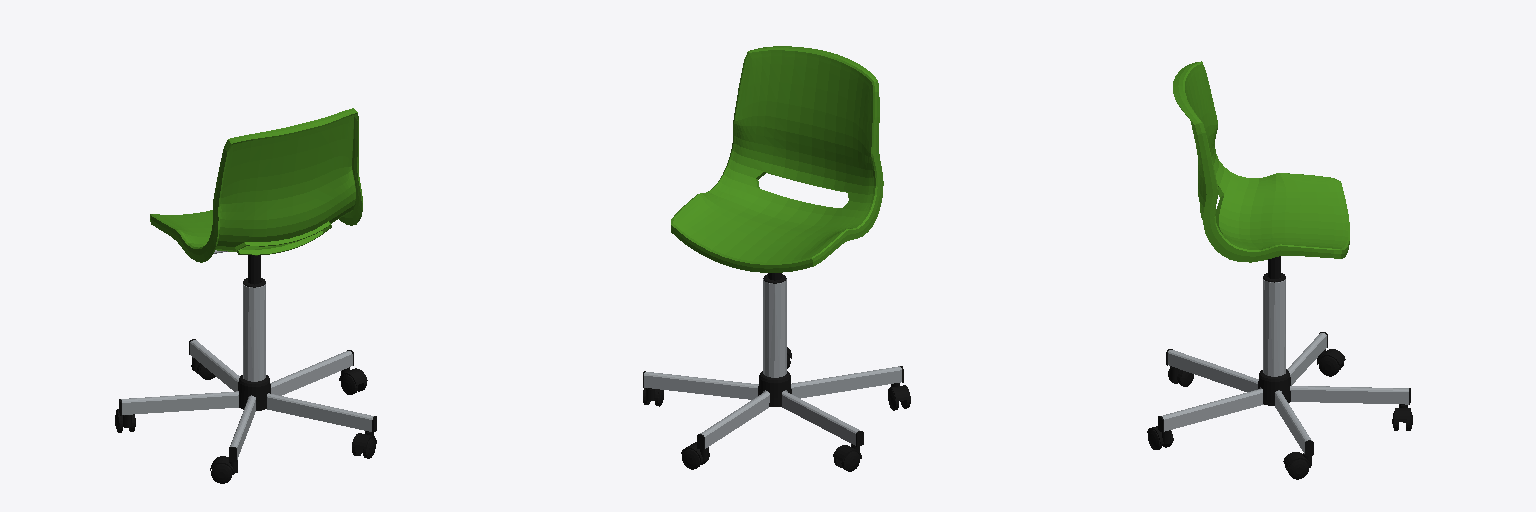
3 views of the same model, side by side, from view 1: azimuth 30°, elevation 25°; view 2: azimuth 150°, elevation 25°; view 3: azimuth 270°, elevation 25° (orthographic).
Visible parts, largest first — view 1: Mesh2 Group2 SNILLE_IKEA1 Model, Mesh8 Group6 SNILLE_IKEA1 Model, Mesh7 Group5 SNILLE_IKEA1 Model, Mesh1 Group1 SNILLE_IKEA1 Model; view 2: Mesh2 Group2 SNILLE_IKEA1 Model, Mesh8 Group6 SNILLE_IKEA1 Model, Mesh7 Group5 SNILLE_IKEA1 Model, Mesh1 Group1 SNILLE_IKEA1 Model; view 3: Mesh2 Group2 SNILLE_IKEA1 Model, Mesh8 Group6 SNILLE_IKEA1 Model, Mesh7 Group5 SNILLE_IKEA1 Model, Mesh1 Group1 SNILLE_IKEA1 Model.
Part boxes in pixels (left/top/right/bottom): Mesh2 Group2 SNILLE_IKEA1 Model: left=150, top=108, right=362, bottom=262; Mesh8 Group6 SNILLE_IKEA1 Model: left=119, top=339, right=376, bottom=461; Mesh7 Group5 SNILLE_IKEA1 Model: left=243, top=284, right=265, bottom=381; Mesh1 Group1 SNILLE_IKEA1 Model: left=238, top=375, right=270, bottom=410; Mesh2 Group2 SNILLE_IKEA1 Model: left=671, top=46, right=883, bottom=272; Mesh8 Group6 SNILLE_IKEA1 Model: left=643, top=366, right=903, bottom=449; Mesh7 Group5 SNILLE_IKEA1 Model: left=763, top=279, right=786, bottom=377; Mesh1 Group1 SNILLE_IKEA1 Model: left=758, top=371, right=791, bottom=406; Mesh2 Group2 SNILLE_IKEA1 Model: left=1173, top=61, right=1349, bottom=262; Mesh8 Group6 SNILLE_IKEA1 Model: left=1158, top=332, right=1410, bottom=455; Mesh7 Group5 SNILLE_IKEA1 Model: left=1263, top=279, right=1285, bottom=376; Mesh1 Group1 SNILLE_IKEA1 Model: left=1258, top=369, right=1290, bottom=405.
Bounding box in the file's own units: 0.593 × 0.827 × 0.5909.